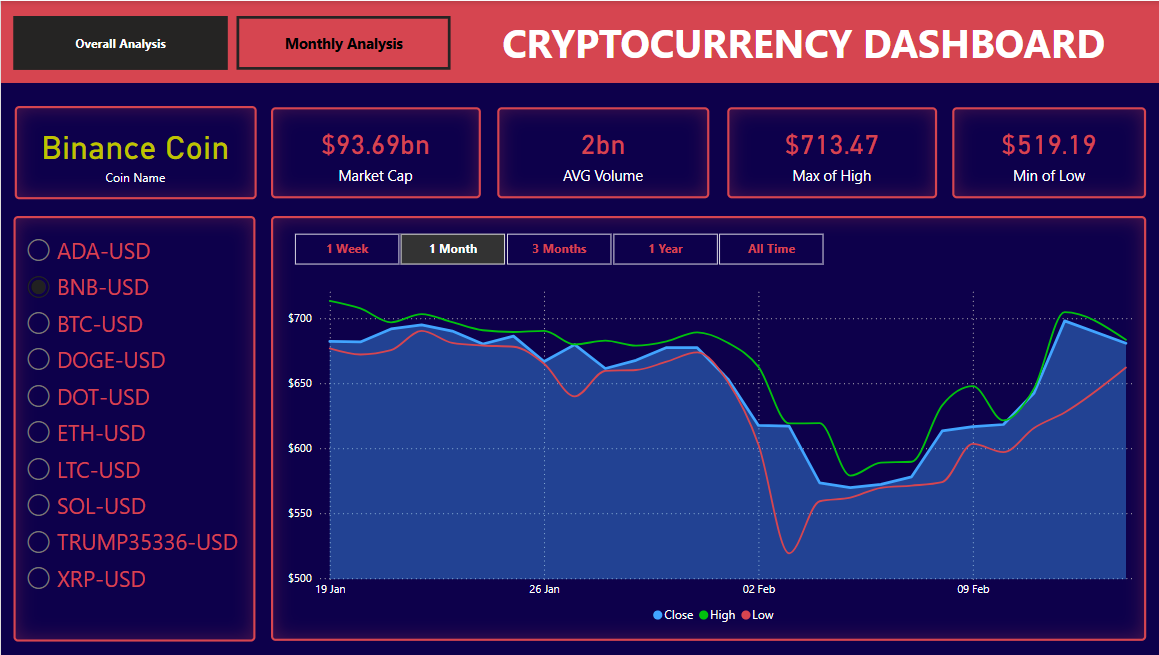

This screenshot's page, from the dashboard's own definition file:
{"tool":"powerbi","page":{"name":"Overall Analysis","canvas":[1280,720],"ordinal":0},"visuals":[{"type":"slicer","title":"Select Coin ","fields":{"Values":["coin_data.Symbol"]},"box":[14.3,235.7,265.7,467.1],"z":0},{"type":"shape","box":[296.6,236.2,960.9,466.2],"z":0,"group":"g1"},{"type":"card","title":"Market Cap","fields":{"Values":["Sum(coin_data.Market Cap)"]},"box":[296.9,116.7,230,100],"z":1000,"group":"g2"},{"type":"group","id":"g1","title":"Group 2","box":[296.2,236.2,961.2,466.2],"z":1000},{"type":"group","id":"g2","title":"Group 3","box":[296.9,116.7,960.1,100],"z":2000},{"type":"card","fields":{"Values":["Measure (2).Filtered Volume"]},"box":[545.6,116.7,232.9,100],"z":2000,"group":"g2"},{"type":"slicer","fields":{"Values":["TimeTable.TimeFilter"]},"box":[296.2,248.9,630.7,47.5],"z":2000,"group":"g3"},{"type":"shape","box":[0,0,1280,90],"z":3000},{"type":"lineChart","fields":{"Y":["Measure (2).Filtered Close","Measure (2).Filtered High","Measure (2).Filtered Low"],"Category":["data.Open Time"]},"box":[309.4,306.7,948,387.2],"z":3000,"group":"g3"},{"type":"card","fields":{"Values":["Min(coin_data.Coin Name)"]},"box":[14.4,114.8,265.6,102.2],"z":4000},{"type":"card","fields":{"Values":["Measure (2).Filtered High"]},"box":[798.4,116.7,230,100],"z":4000,"group":"g2"},{"type":"group","id":"g3","title":"Group 1","box":[296.2,248.9,961.2,445],"z":4000,"group":"g1"},{"type":"textbox","box":[526.9,11,708.1,68.6],"z":5000},{"type":"card","fields":{"Values":["Measure (2).Filtered Low"]},"box":[1044.1,116.7,212.9,100],"z":5000,"group":"g2"},{"type":"pageNavigator","box":[13.7,16.5,480.3,59],"z":5001}]}

Visuals, with their boxes in screenshot pixels (x1, y1, x2, y2), scaled from the page's 1280x720 canvas onto the 1159x655 screenshot:
"Select Coin " slicer: [x1=13, y1=214, x2=254, y2=639]
shape: [x1=269, y1=215, x2=1139, y2=639]
"Market Cap" card: [x1=269, y1=106, x2=477, y2=197]
"Group 2" group: [x1=268, y1=215, x2=1139, y2=639]
"Group 3" group: [x1=269, y1=106, x2=1138, y2=197]
card - Measure (2).Filtered Volume: [x1=494, y1=106, x2=705, y2=197]
slicer - TimeTable.TimeFilter: [x1=268, y1=226, x2=839, y2=270]
shape: [x1=0, y1=0, x2=1158, y2=82]
lineChart - Measure (2).Filtered Close x Measure (2).Filtered High: [x1=280, y1=279, x2=1139, y2=631]
card - Min(coin_data.Coin Name): [x1=13, y1=104, x2=254, y2=197]
card - Measure (2).Filtered High: [x1=723, y1=106, x2=931, y2=197]
"Group 1" group: [x1=268, y1=226, x2=1139, y2=631]
textbox: [x1=477, y1=10, x2=1118, y2=72]
card - Measure (2).Filtered Low: [x1=945, y1=106, x2=1138, y2=197]
pageNavigator: [x1=12, y1=15, x2=447, y2=69]
